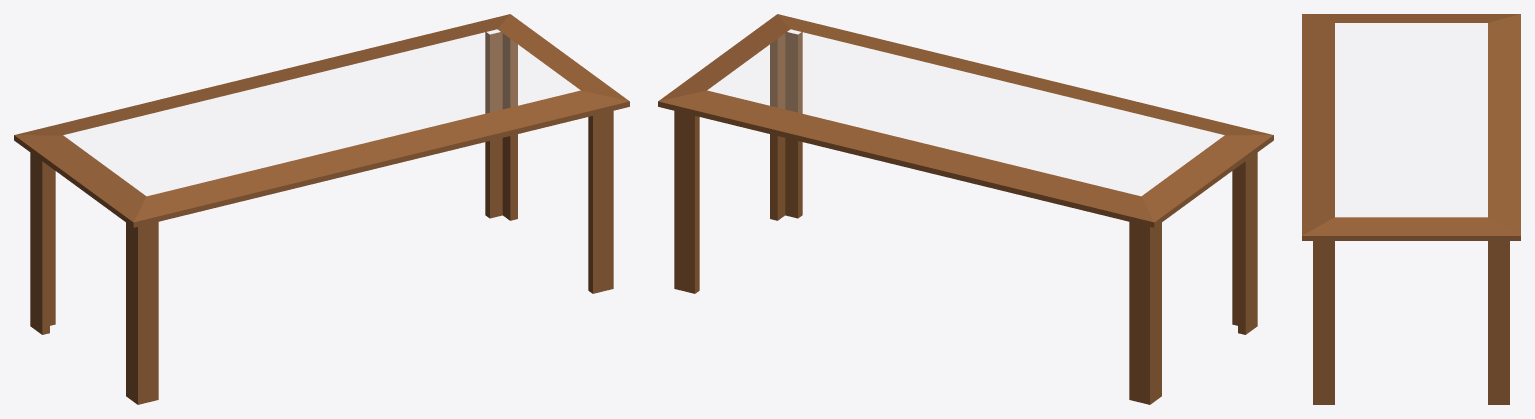
The model's file is table-by-cmht-oculus-0ahjk8bWnUP.glb.
3 renders of one model, left to right at view 1: azimuth 30°, elevation 25°; view 2: azimuth 150°, elevation 25°; view 3: azimuth 270°, elevation 25°, orthographic. The views are drawn at different scales.
Parts seen in each view (by area): view 1: Node; view 2: Node; view 3: Node.
Part boxes in pixels (x1,y1,x2,y2): Node: (14, 14, 629, 404); Node: (658, 14, 1273, 404); Node: (1302, 14, 1520, 404).
Size of the model in its own units: 48 by 18 by 20.
